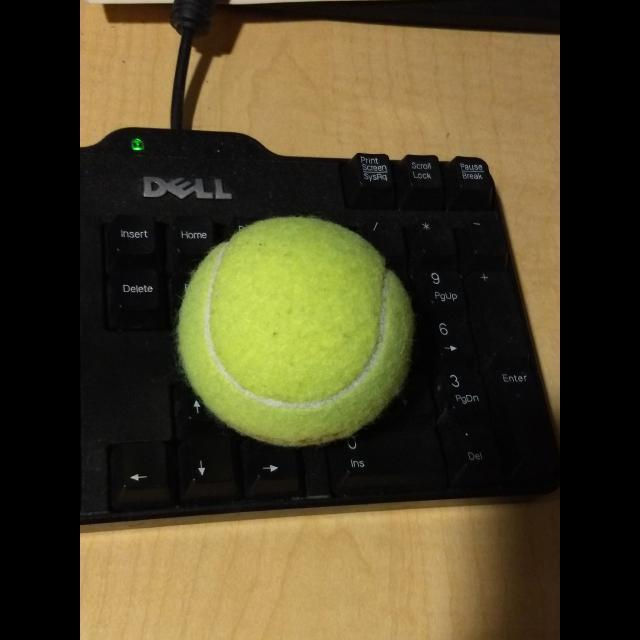tennis-ball: (175, 214, 412, 448)
